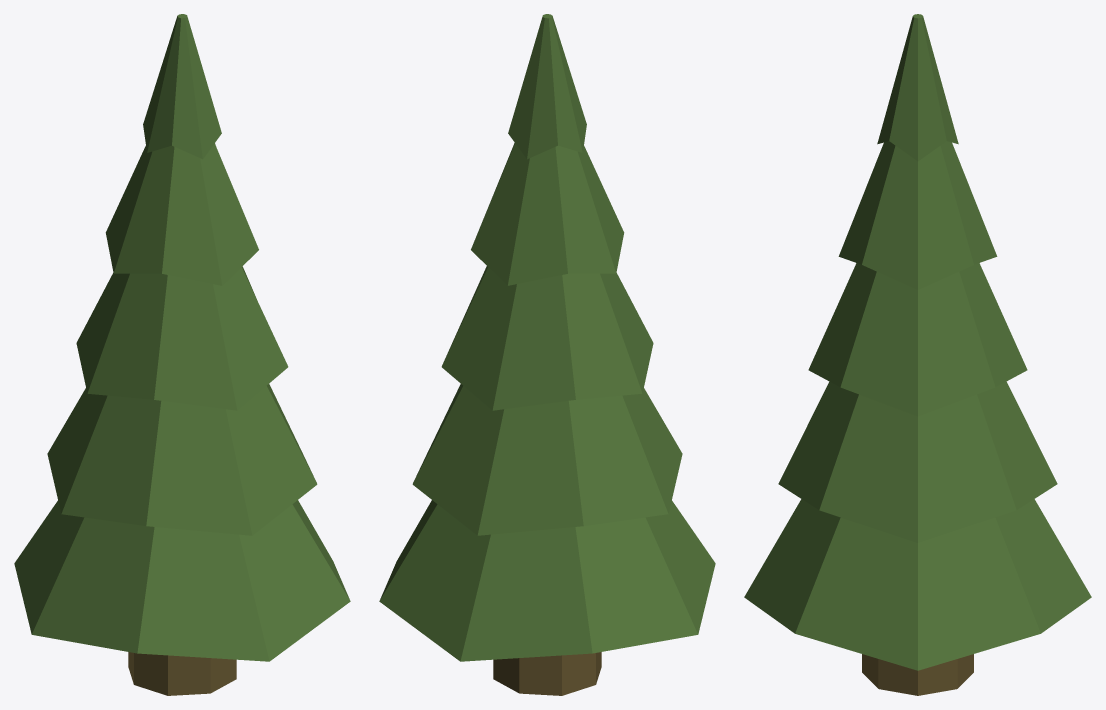
Rendered from árbol3.glb.
3 renders of one model, left to right at view 1: azimuth 30°, elevation 25°; view 2: azimuth 150°, elevation 25°; view 3: azimuth 270°, elevation 25°, orthographic.
Parts seen in each view (by area): view 1: Cylinder.001; view 2: Cylinder.001; view 3: Cylinder.001.
Boxes of the visible parts, bbox=[...] form: Cylinder.001: bbox=[14, 14, 350, 695]; Cylinder.001: bbox=[379, 14, 715, 695]; Cylinder.001: bbox=[744, 14, 1091, 695].
Bounding box in the file's own units: 4.94 × 10.28 × 4.94.
